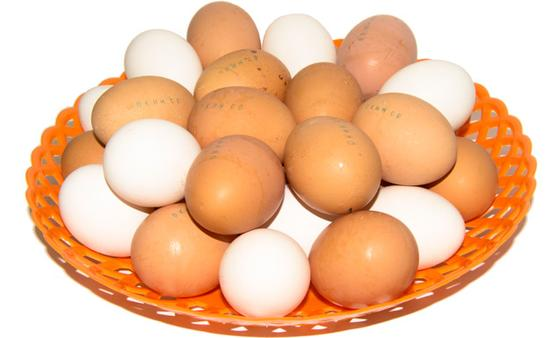egg: (306, 207, 424, 311), (283, 113, 386, 222), (187, 133, 287, 239), (99, 114, 205, 207), (356, 92, 454, 187), (214, 229, 312, 320)
